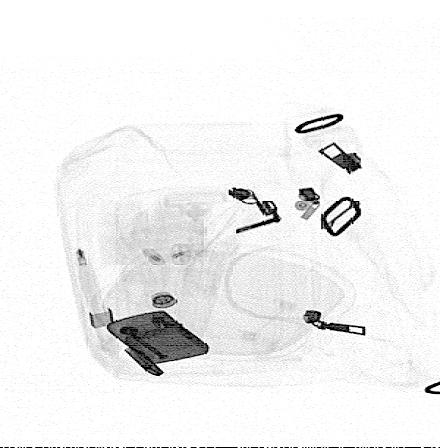Lighter: (107, 311, 210, 366)
